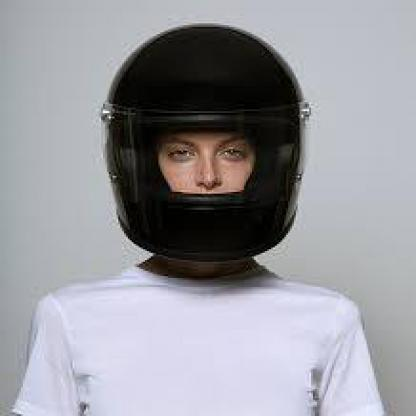helmet: (100, 22, 313, 262)
